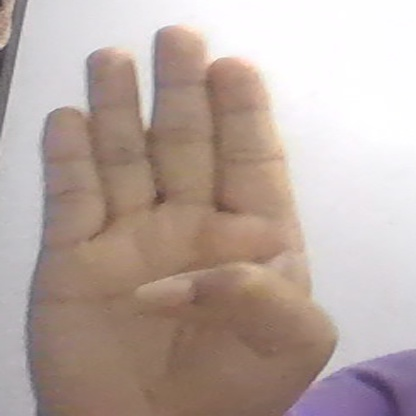B: (27, 23, 342, 406)
